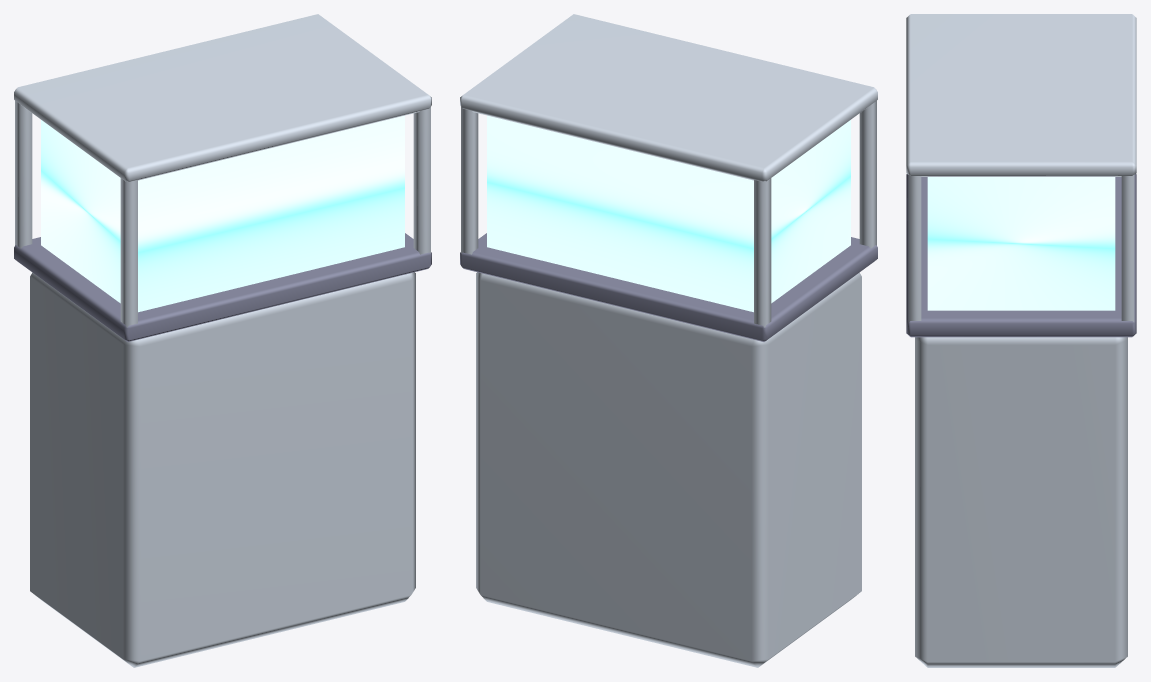
File: pie_case.glb
The picture shows the model from 3 angles, left to right: view 1: azimuth 30°, elevation 25°; view 2: azimuth 150°, elevation 25°; view 3: azimuth 270°, elevation 25°; orthographic projection.
Visible parts, largest first — view 1: Case; view 2: Case; view 3: Case.
Part boxes in pixels (x1,y1,x2,y2): Case: (14,14,431,667); Case: (460,14,877,667); Case: (906,14,1136,667).
Bounding box in the file's own units: 0.84 × 1.33 × 0.54.
